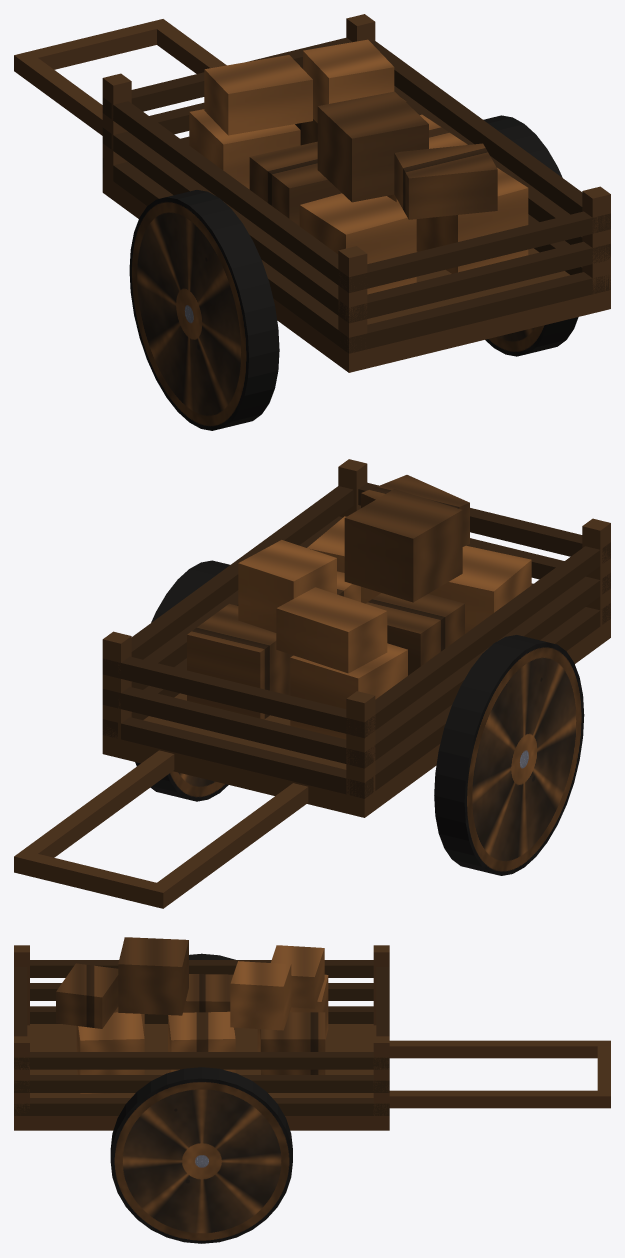
File: holzwagen_t2_blur_voll.fbx
3 renders of one model, top to bottom at view 1: azimuth 30°, elevation 25°; view 2: azimuth 150°, elevation 25°; view 3: azimuth 270°, elevation 25°, orthographic. The views are drawn at different scales.
Parts seen in each view (by area): view 1: Holzwagen_T2_blur; view 2: Holzwagen_T2_blur; view 3: Holzwagen_T2_blur.
Part boxes in pixels (x1,y1,x2,y2): Holzwagen_T2_blur: (14,14,610,430); Holzwagen_T2_blur: (14,459,610,908); Holzwagen_T2_blur: (14,937,610,1243).
Bounding box in the file's own units: 110 × 92 × 222.
